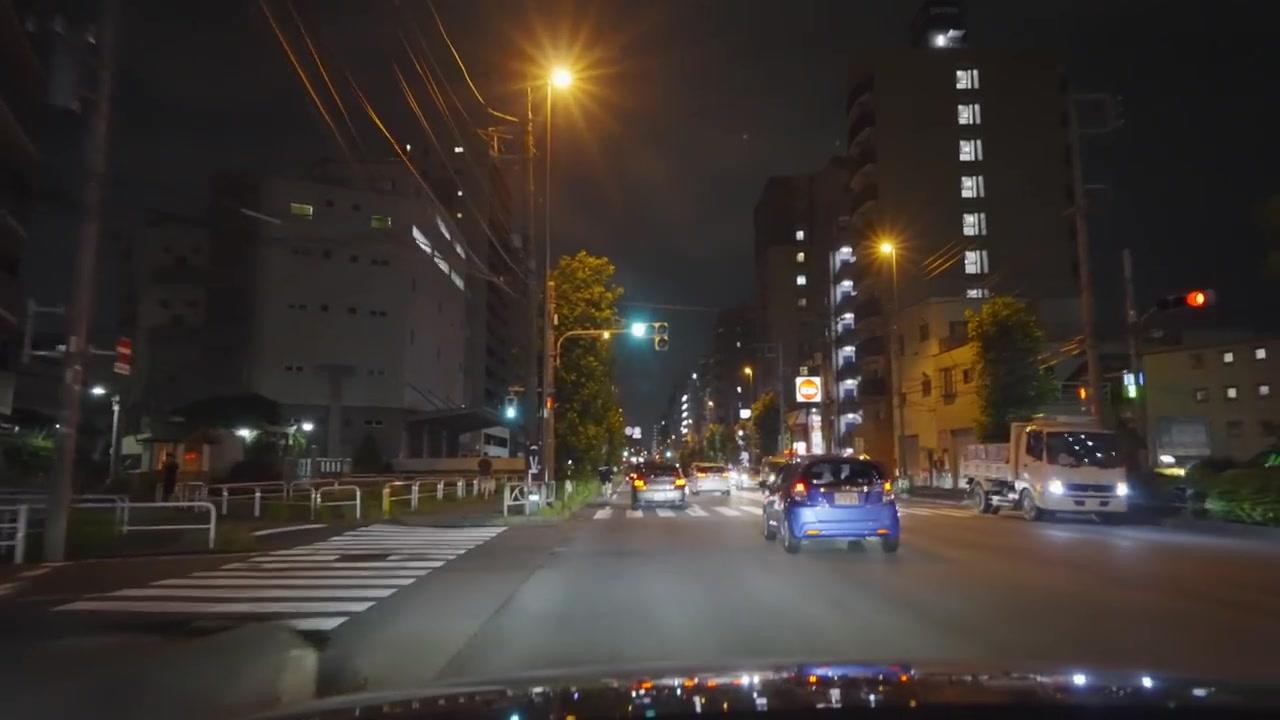car: (762, 454, 901, 555), (1176, 444, 1280, 518), (632, 466, 688, 512), (690, 462, 731, 501)
person: (160, 453, 180, 502), (476, 452, 494, 500)
traffic light: (113, 337, 133, 378), (500, 390, 520, 423), (653, 322, 670, 350), (1077, 385, 1090, 406)
truck: (961, 417, 1130, 522)
